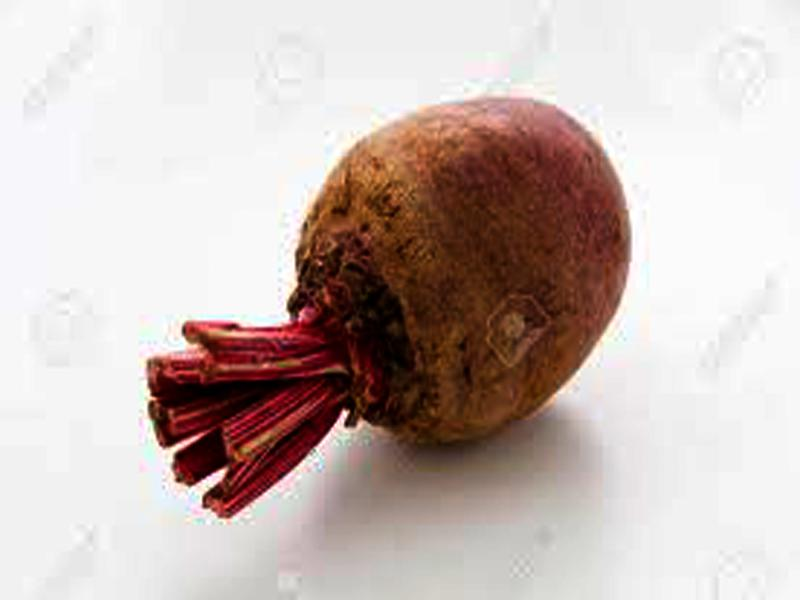Beet: (148, 95, 632, 521)
